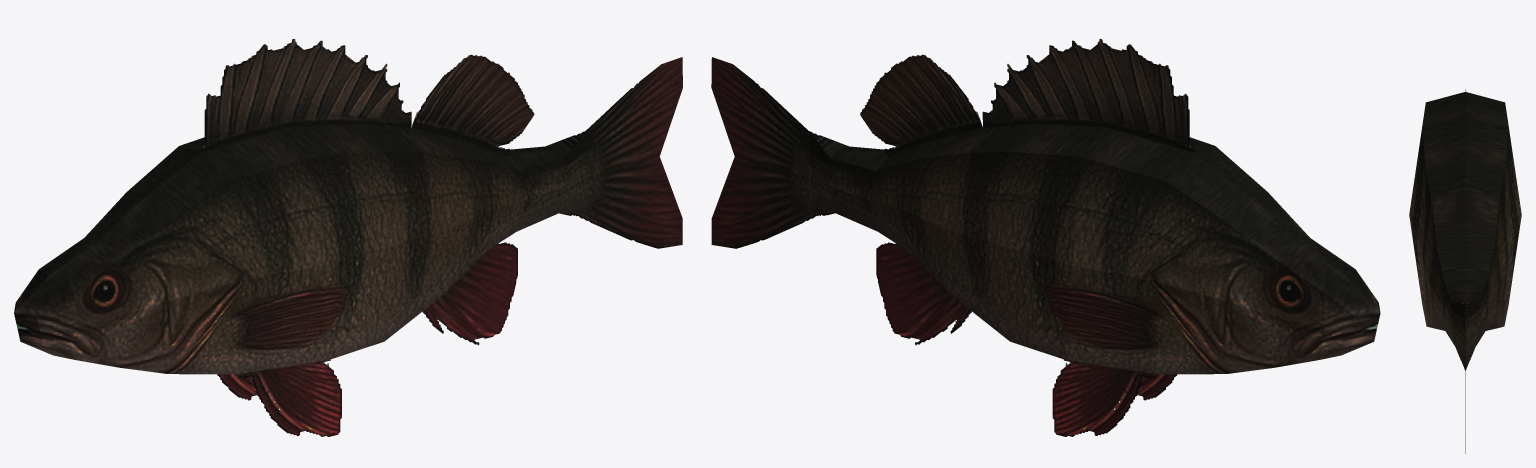
Rendered from Sanguinosa.fbx.
3 renders of one model, left to right at view 1: azimuth 30°, elevation 25°; view 2: azimuth 150°, elevation 25°; view 3: azimuth 270°, elevation 25°, orthographic. The views are drawn at different scales.
Visible parts, largest first — view 1: Perch; view 2: Perch; view 3: Perch.
Part boxes in pixels (x1=…): Perch: x1=14, y1=39, x2=682, y2=436; Perch: x1=711, y1=39, x2=1380, y2=436; Perch: x1=1409, y1=89, x2=1521, y2=453.
Size of the model in its own units: 137 by 77.27 by 24.52.
1 material, 1 textured.
